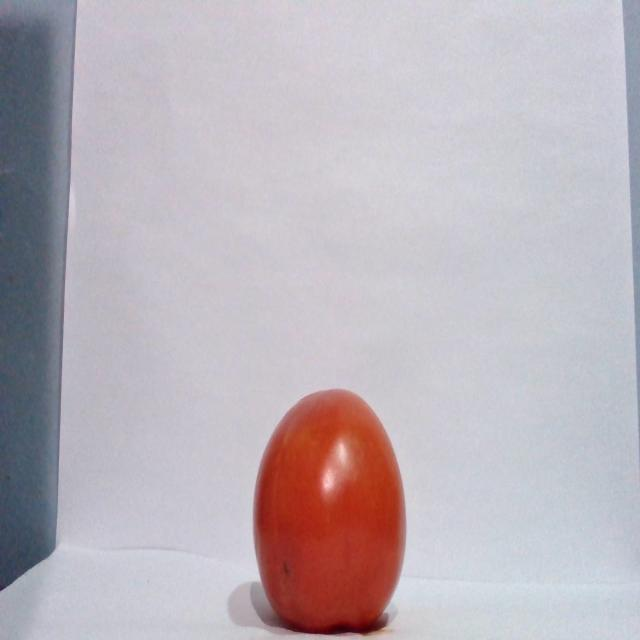Red: (251, 386, 407, 633)
